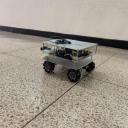cart: (42, 38, 99, 83)
